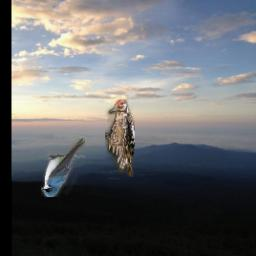Swallow: (41, 138, 85, 197)
Woodpecker: (106, 100, 136, 177)
